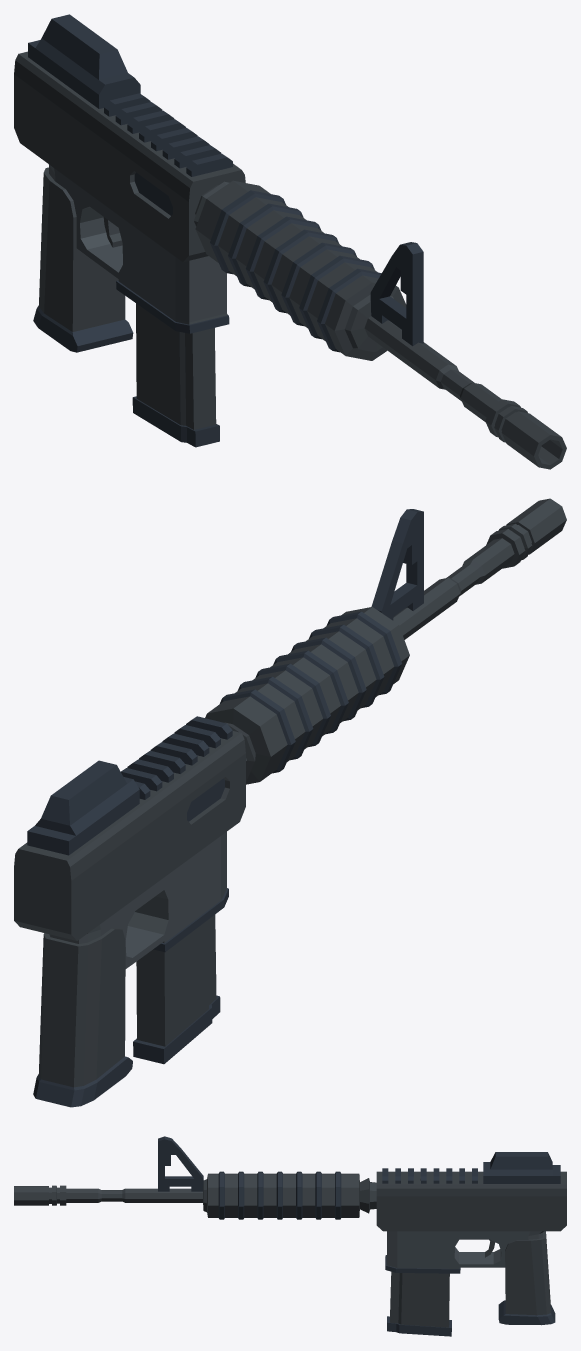
File: rifle_ar_3.glb
3 renders of one model, top to bottom at view 1: azimuth 30°, elevation 25°; view 2: azimuth 150°, elevation 25°; view 3: azimuth 270°, elevation 25°, orthographic. The views are drawn at different scales.
Parts seen in each view (by area): view 1: rifle_ar_3; view 2: rifle_ar_3; view 3: rifle_ar_3.
Boxes of the visible parts, left/top/right/bottom form: rifle_ar_3: left=14, top=14, right=566, bottom=469; rifle_ar_3: left=14, top=498, right=566, bottom=1107; rifle_ar_3: left=14, top=1136, right=566, bottom=1336.
Size of the model in its own units: 0.0617 by 0.2594 by 0.6679.
